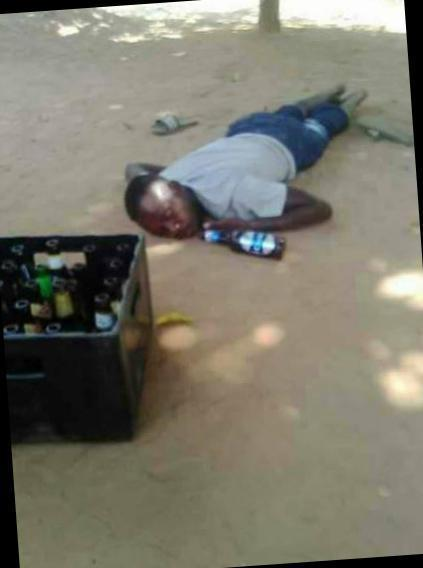Drunk: (134, 178, 199, 241)
